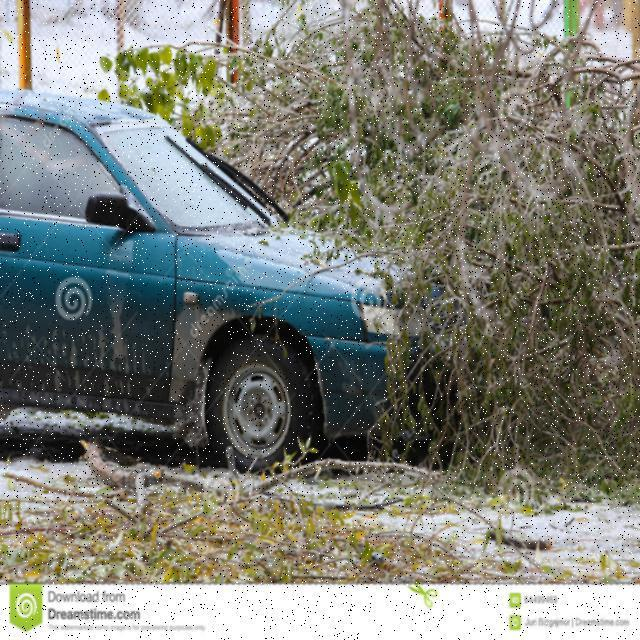car damage: (172, 285, 293, 457), (1, 378, 169, 435)
